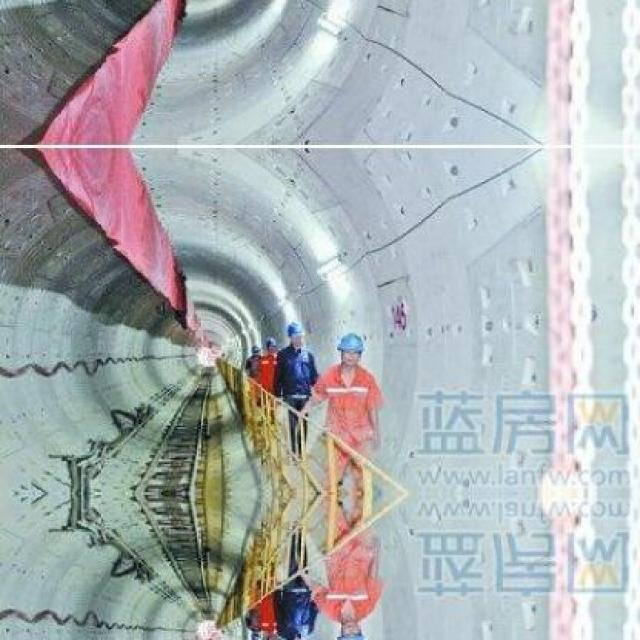helmet: (335, 327, 363, 365), (285, 319, 306, 349), (336, 618, 364, 637), (264, 333, 278, 353), (263, 631, 279, 637)
